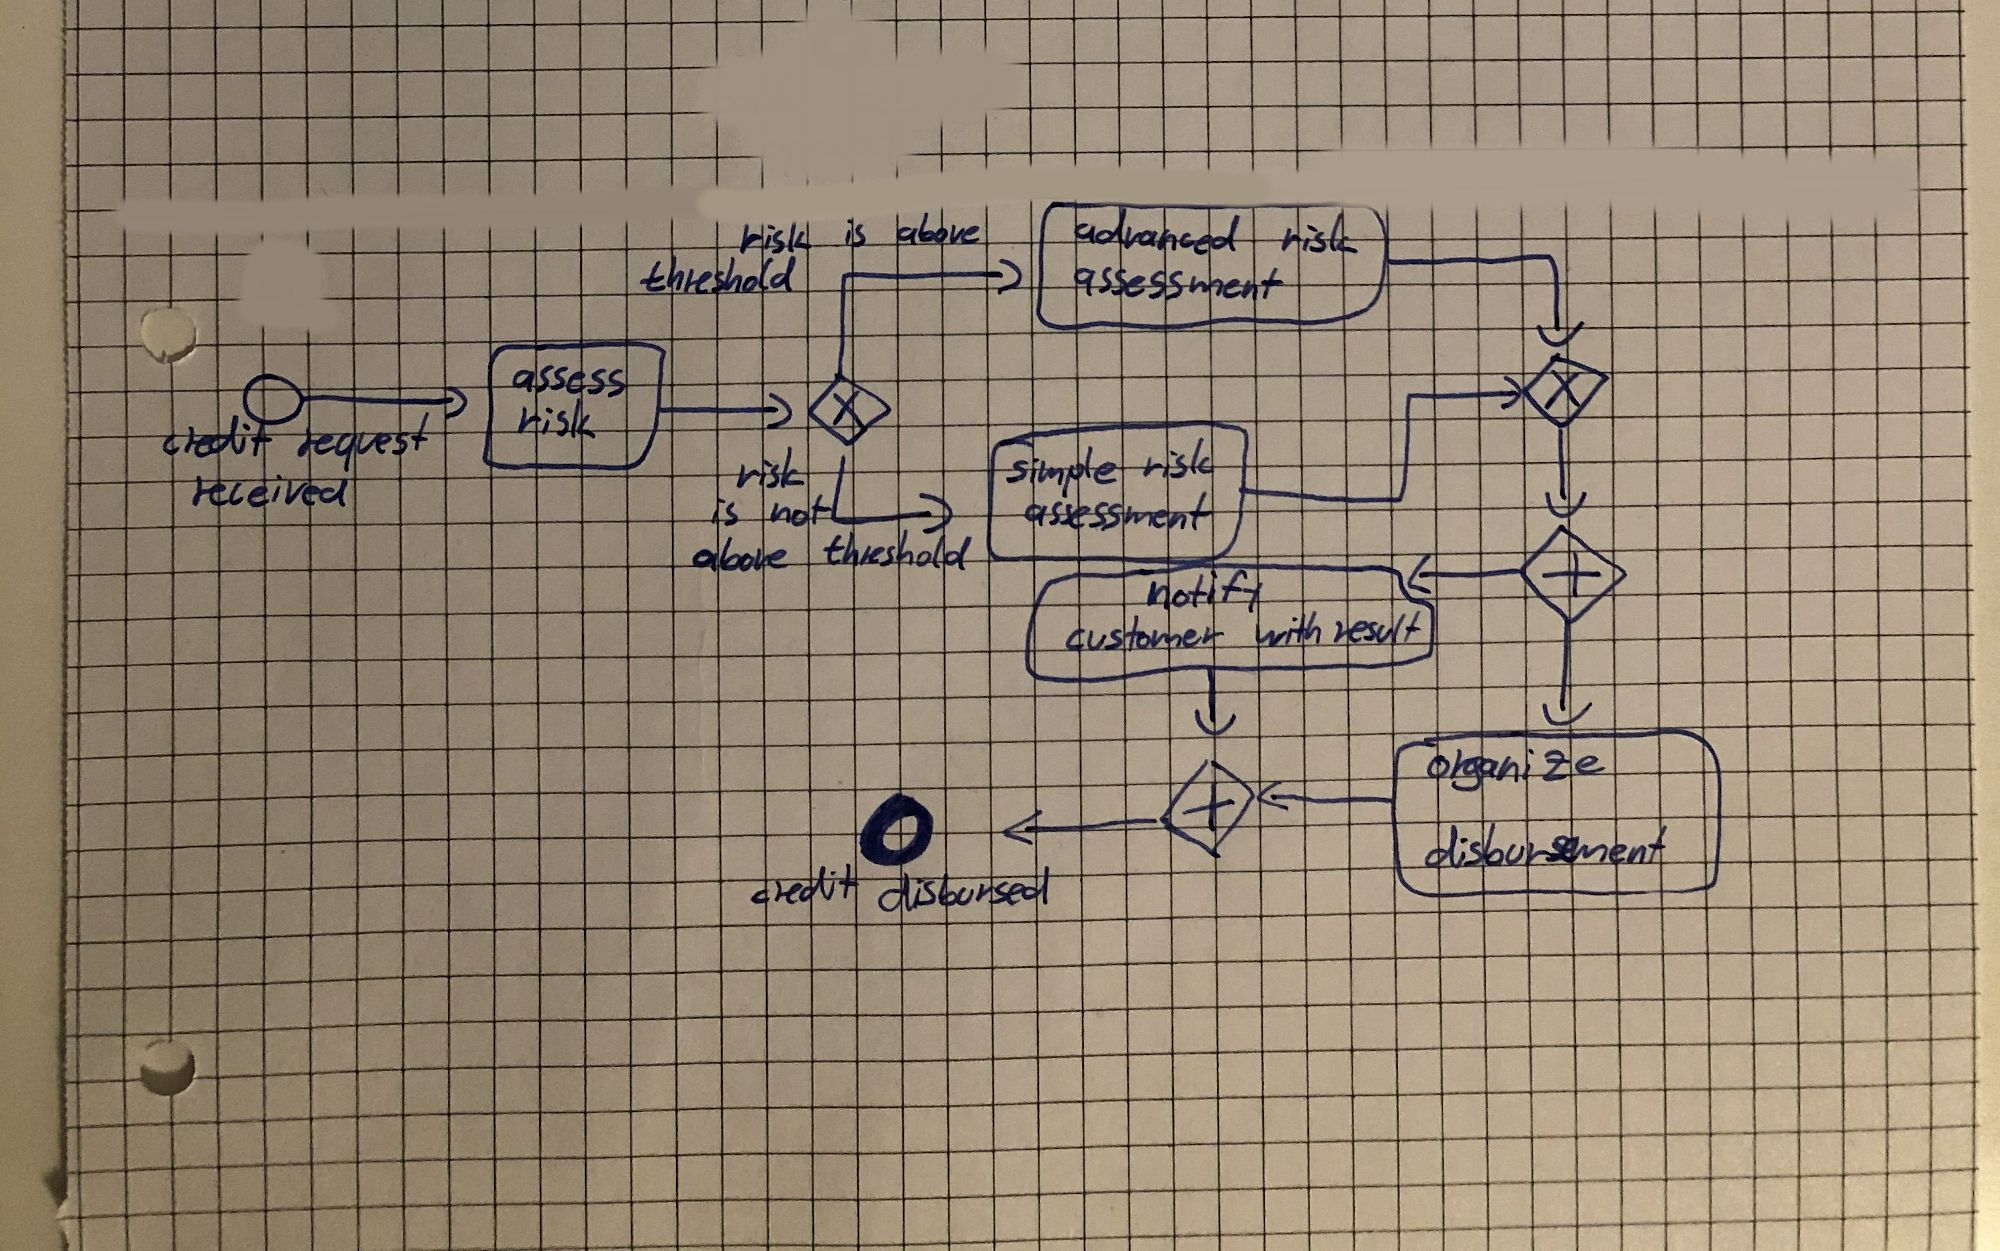Simple: (1001, 441, 1122, 502)
above: (687, 533, 795, 576), (890, 206, 986, 252)
advanced: (1068, 202, 1245, 259)
assess: (509, 360, 633, 401)
assessment: (1017, 486, 1218, 538), (1069, 262, 1290, 303)
credit: (157, 409, 277, 463), (745, 860, 865, 909)
customer: (1059, 611, 1229, 659)
disbursed: (872, 862, 1058, 917)
disbursement: (1418, 819, 1671, 873)
is: (705, 494, 746, 532), (839, 213, 873, 254)
not: (764, 489, 839, 533)
notify: (1141, 566, 1267, 617)
organize: (1424, 744, 1611, 796)
received: (184, 470, 352, 513)
request: (293, 408, 437, 478)
result: (1329, 607, 1427, 651)
risk: (512, 393, 602, 450), (1275, 209, 1365, 258), (1138, 434, 1222, 484), (732, 442, 808, 491), (736, 215, 816, 259)
threshold: (634, 254, 801, 300), (821, 525, 974, 574)
with: (1251, 605, 1327, 654)
